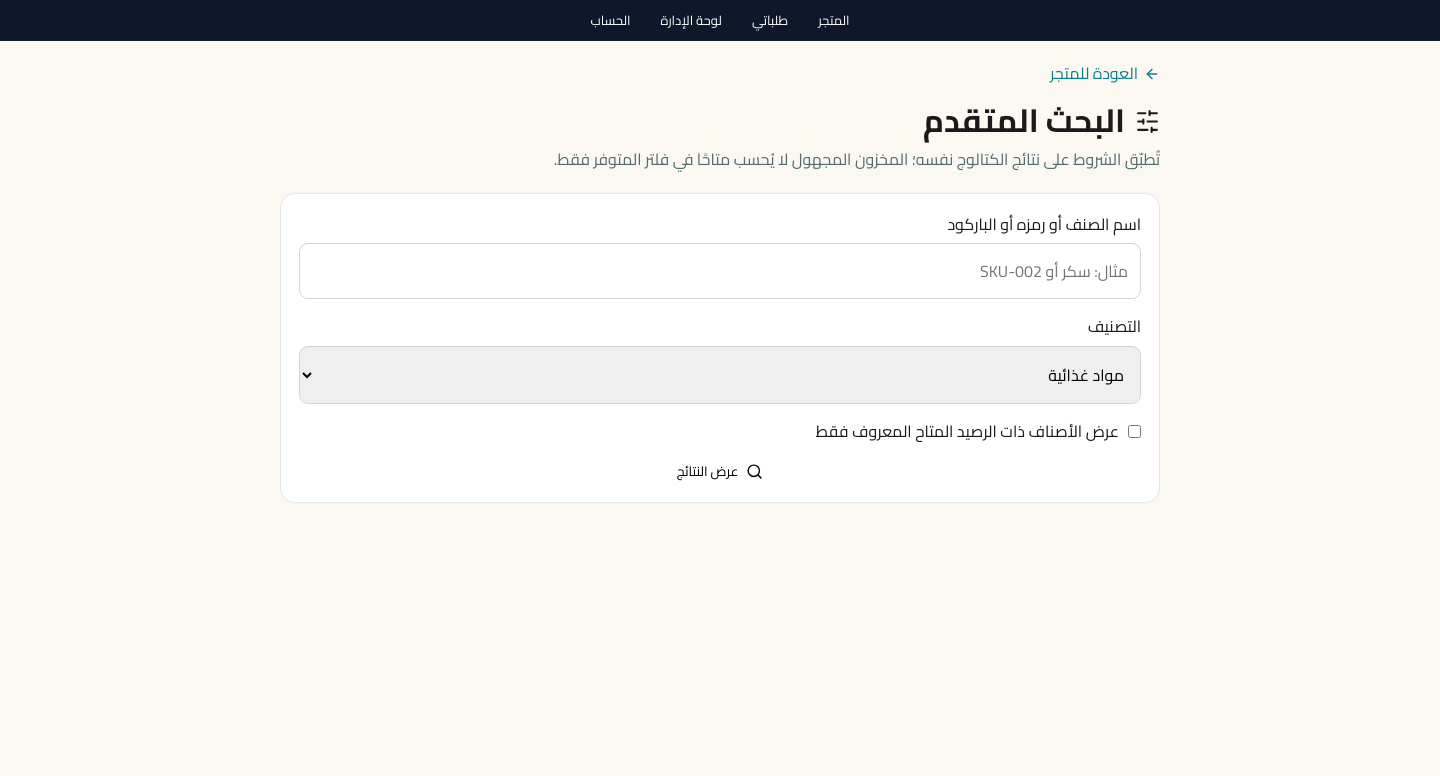
Test: customer storefront saved discovery › opens advanced search and applies the selected category to the canonical catalog
Select "مواد غذائية" in the dropdown with id "advanced-storefront-category" at {"x": 720, "y": 375}, box [299,346,1141,404]
Submit the form, box [280,193,1160,503]
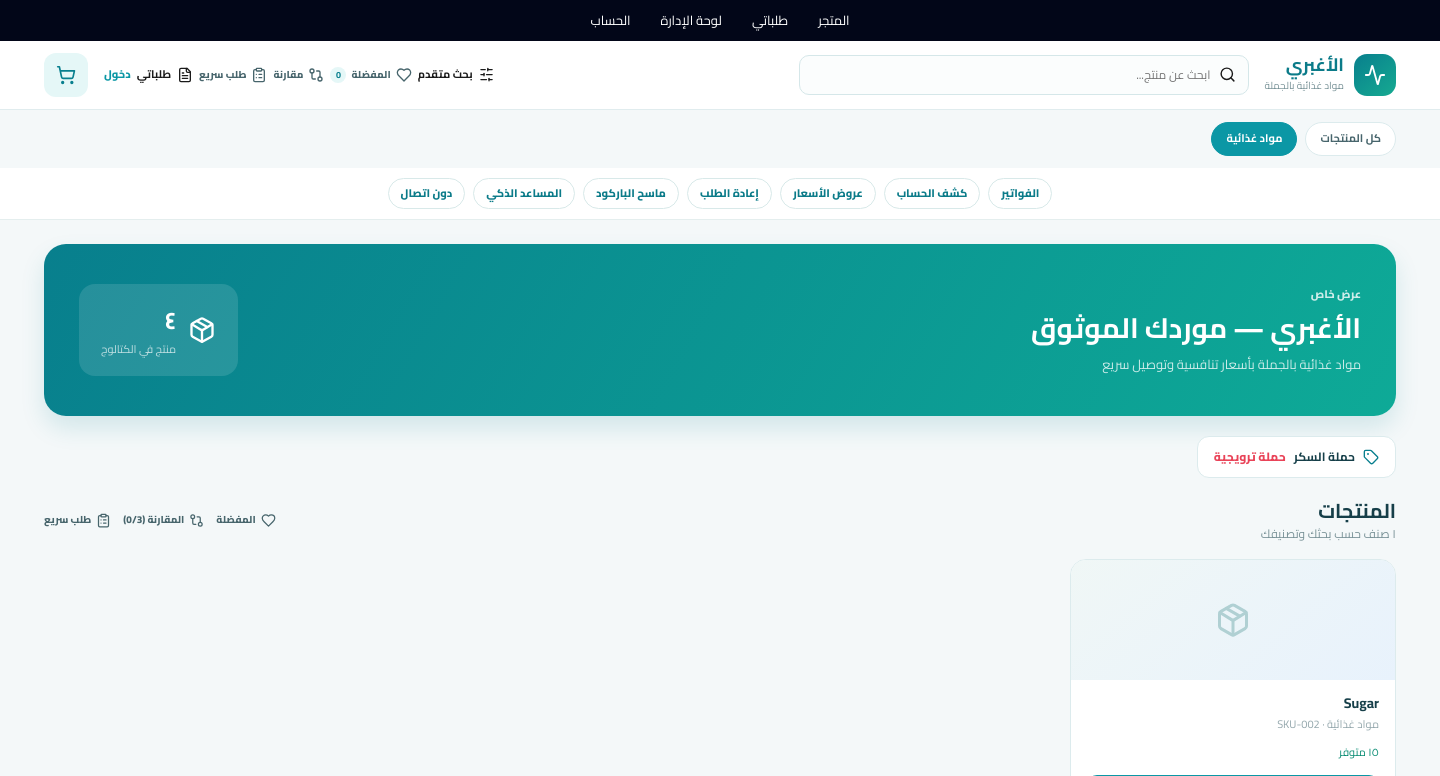
expect the text "Sugar" is shown: met, box [1344,690,1379,716]
